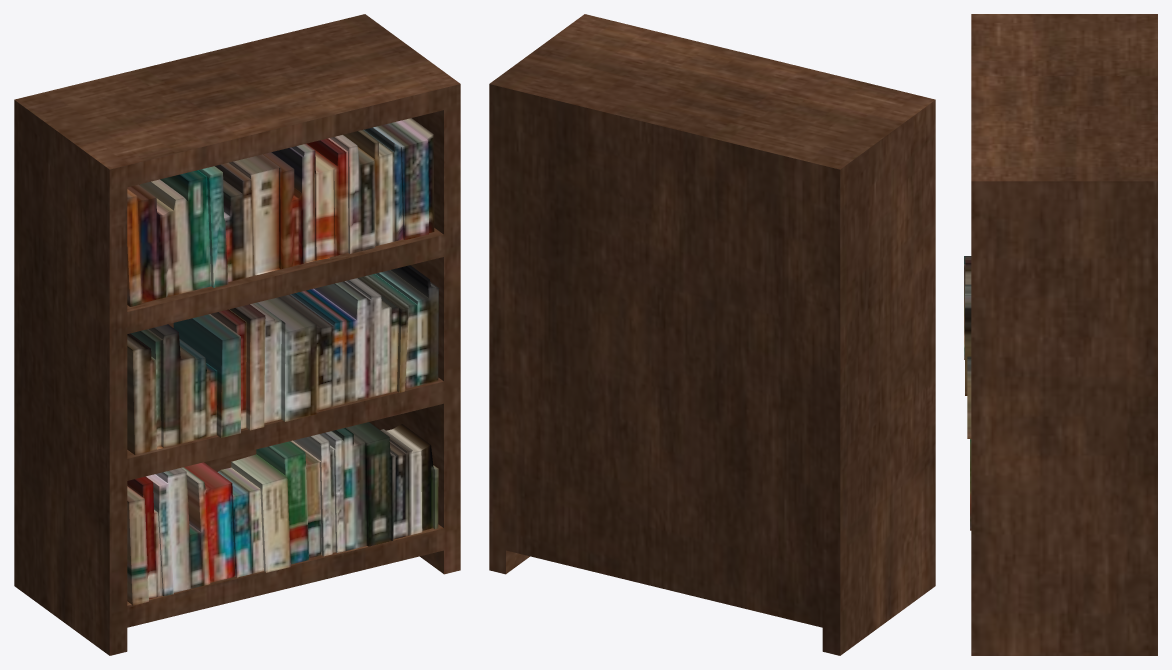
File: bookshelf.glb
3 renders of one model, left to right at view 1: azimuth 30°, elevation 25°; view 2: azimuth 150°, elevation 25°; view 3: azimuth 270°, elevation 25°, orthographic. The views are drawn at different scales.
Visible parts, largest first — view 1: Shelf, Row 2, Row 1, Row 3; view 2: Shelf; view 3: Shelf, Row 2.
Boxes of the visible parts, <box> form: Shelf: <box>14,14,460,655</box>; Row 2: <box>127,265,439,454</box>; Row 1: <box>127,422,438,605</box>; Row 3: <box>127,118,434,306</box>; Shelf: <box>489,14,935,655</box>; Shelf: <box>971,14,1157,655</box>; Row 2: <box>964,256,971,438</box>.
Bounding box in the file's own units: 1.8 × 2.38 × 0.8794.
Materials: 2 (2 with a texture image).
